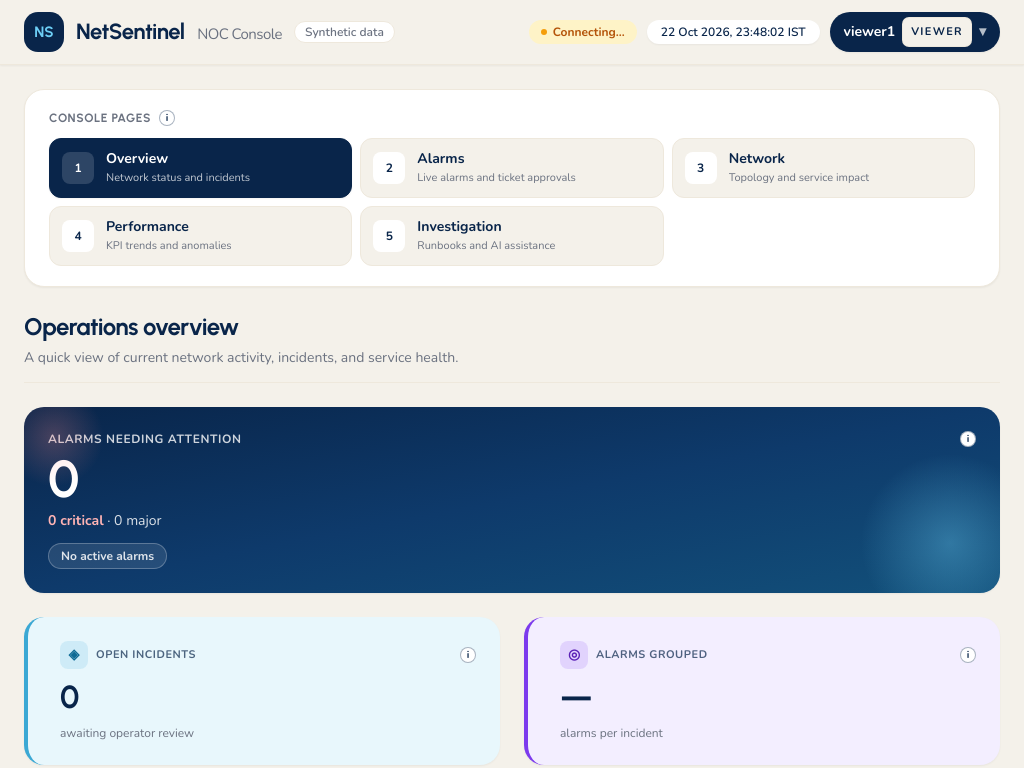
it: role-specific dashboards (Step 13b) › viewer: read-only, no copilot, no admin tab, no action buttons
Expected: the text with test id "role-badge" reads "viewer", [911, 24, 963, 39]
What coordinates should you click on to do the following:
click the button with aria-label "Overview:"
I would click on:
 (201, 168)
Its box is [49, 138, 352, 198].
(page scrolled)
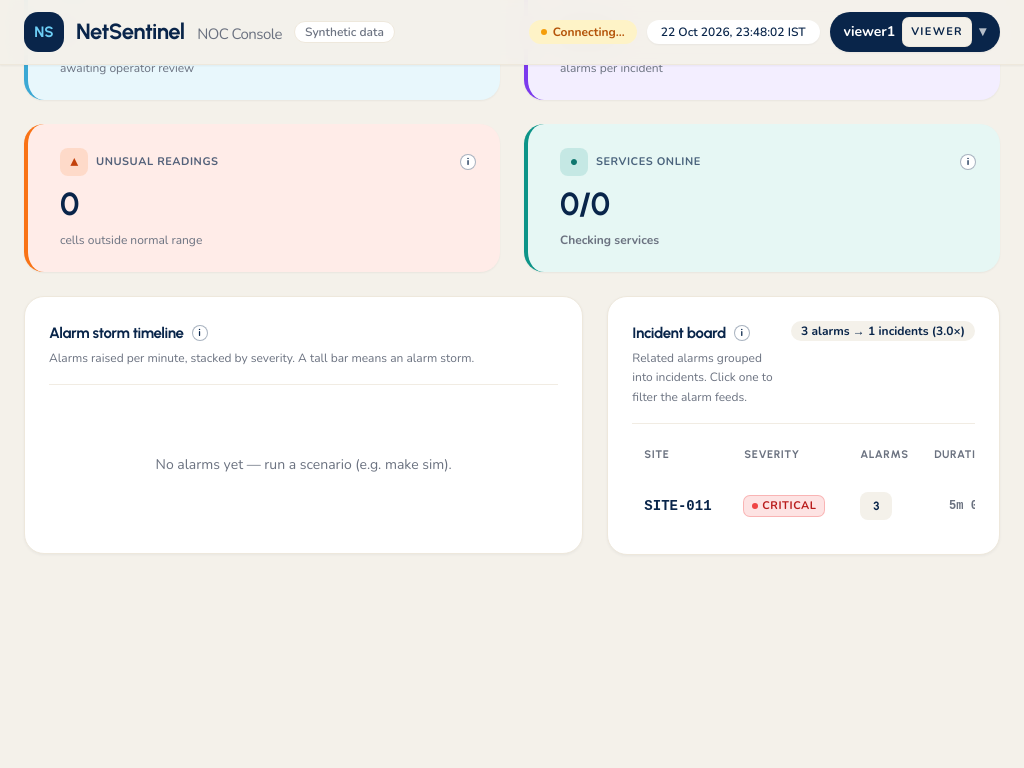
What coordinates should you click on to do the following:
click the button "SITE-011 Critical 3 5m 00s"
I would click on:
 (802, 506)
Its box is [632, 482, 971, 530].
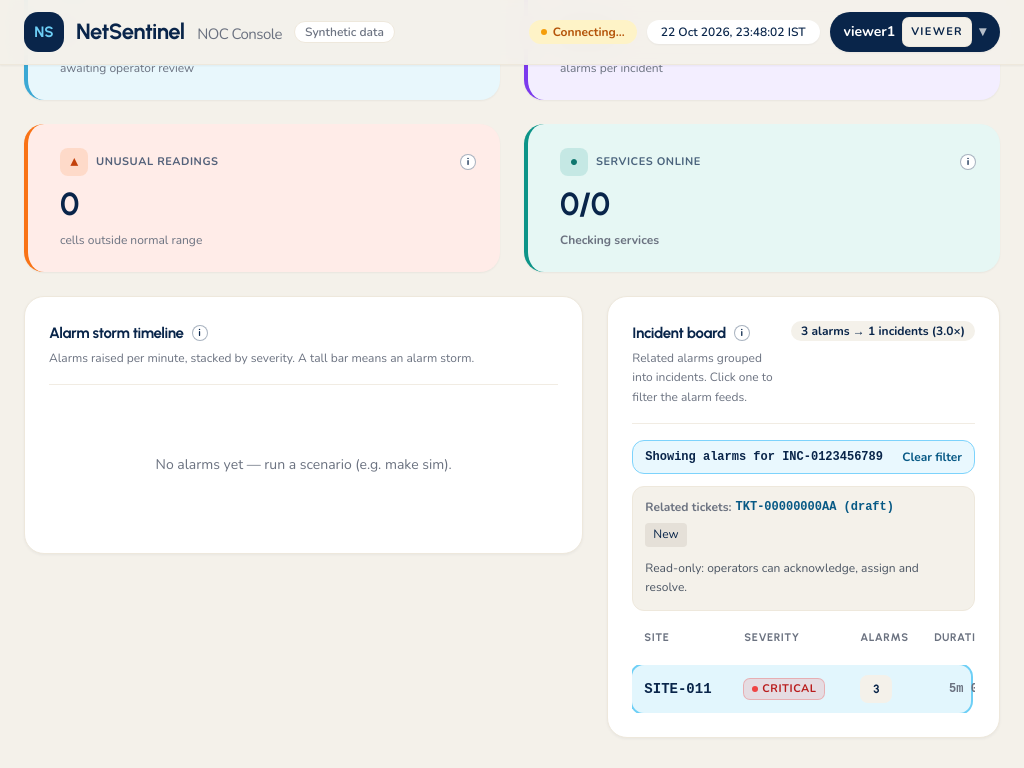
Expected: the text "Read-only: operators can acknowledge, assign and resolve." is shown, [645, 559, 962, 598]
